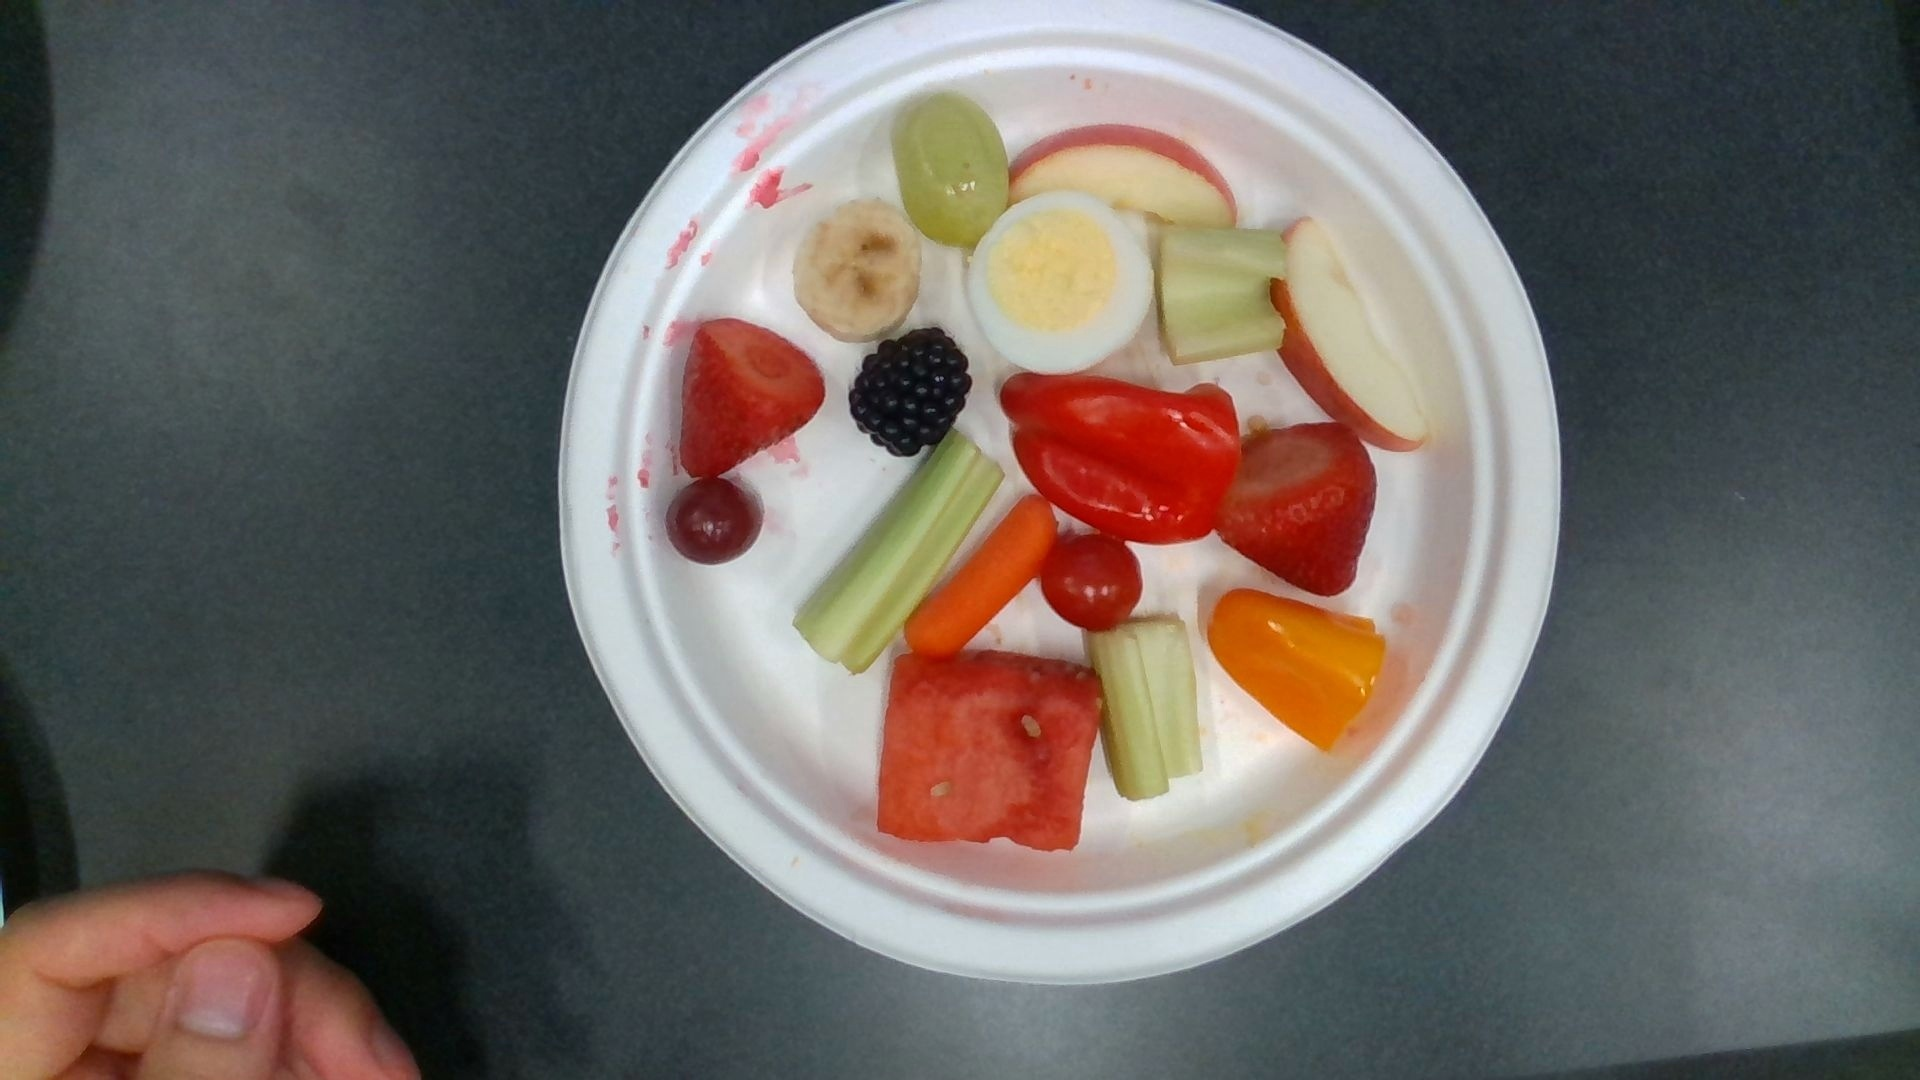apple: (1274, 215, 1429, 448), (1009, 127, 1240, 229)
banana: (794, 196, 919, 342)
bell_pepper: (1000, 371, 1240, 541), (1207, 589, 1382, 746)
blackberry: (852, 330, 969, 455)
carrot: (907, 498, 1054, 655)
celery: (796, 433, 1002, 673), (1085, 615, 1203, 798), (1160, 223, 1282, 357)
cherry_tomato: (1040, 535, 1139, 628)
egg: (969, 193, 1153, 371)
grape_green: (894, 94, 1009, 245)
grape_purple: (667, 481, 757, 568)
melon: (880, 655, 1102, 847)
strawberry: (1220, 426, 1377, 597), (682, 320, 824, 477)
